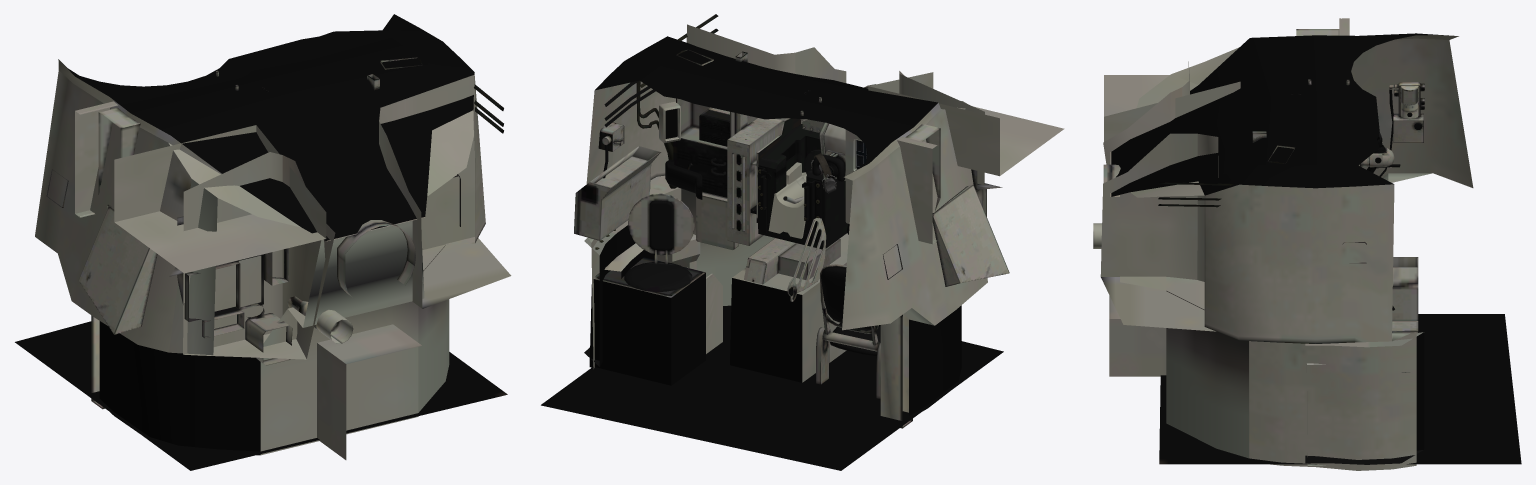
The model's file is MainMenuTank.fbx.
3 views of the same model, side by side, from view 1: azimuth 30°, elevation 25°; view 2: azimuth 150°, elevation 25°; view 3: azimuth 270°, elevation 25° (orthographic). The views are drawn at different scales.
Visible parts, largest first — view 1: Tank; view 2: Tank; view 3: Tank.
Boxes of the visible parts, x1,y1,x2,y2 form: Tank: [15, 14, 511, 470]; Tank: [541, 14, 1064, 470]; Tank: [1093, 18, 1521, 470].
Bounding box in the file's own units: 246 × 189 × 243.
